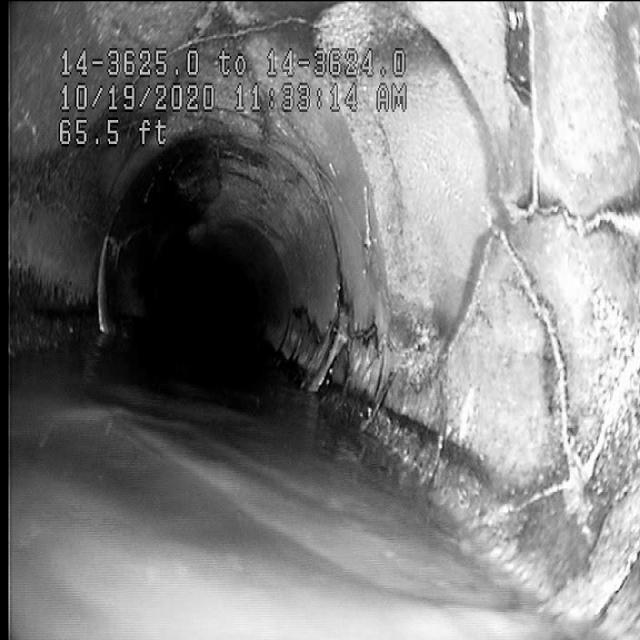Fracture: (348, 178, 600, 422)
